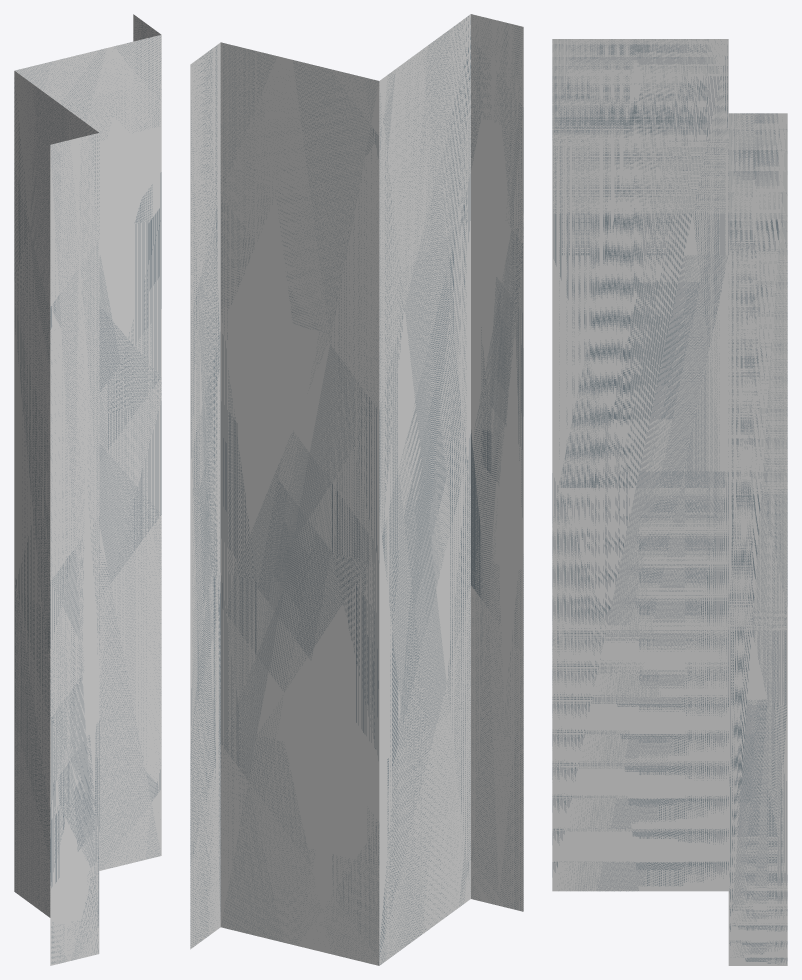
The model's file is Corner_os_075x075x025x4.dae.
The picture shows the model from 3 angles, left to right: view 1: azimuth 30°, elevation 25°; view 2: azimuth 150°, elevation 25°; view 3: azimuth 270°, elevation 25°; orthographic projection. The views are drawn at different scales.
Parts seen in each view (by area): view 1: group_0; view 2: group_0; view 3: group_0.
Boxes of the visible parts, x1,y1,x2,y2 form: group_0: [14, 14, 161, 965]; group_0: [190, 14, 523, 965]; group_0: [552, 39, 787, 965].
Size of the model in its own units: 39.37 by 39.37 by 157.
